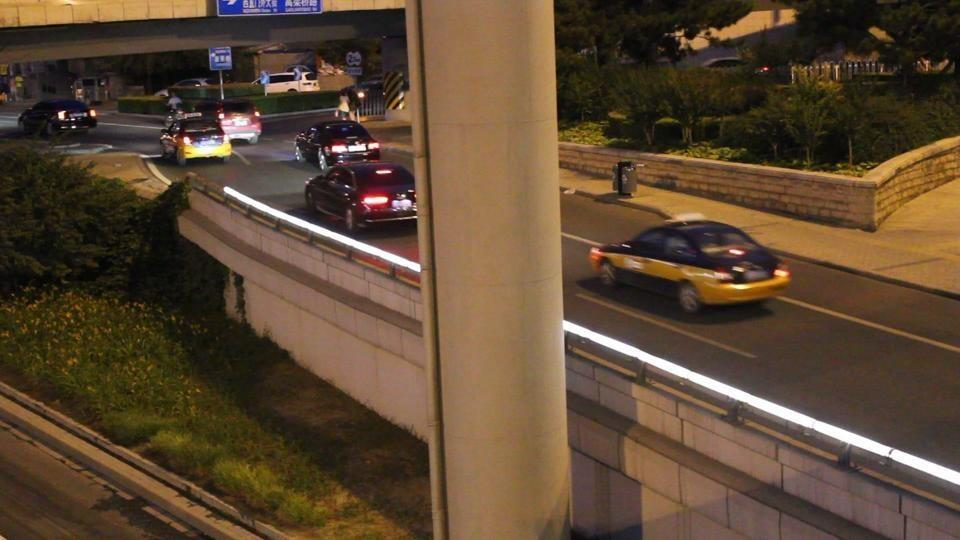car: (589, 218, 792, 314), (303, 161, 421, 231), (294, 119, 381, 168), (160, 114, 232, 165), (193, 97, 263, 144), (19, 98, 98, 136)
